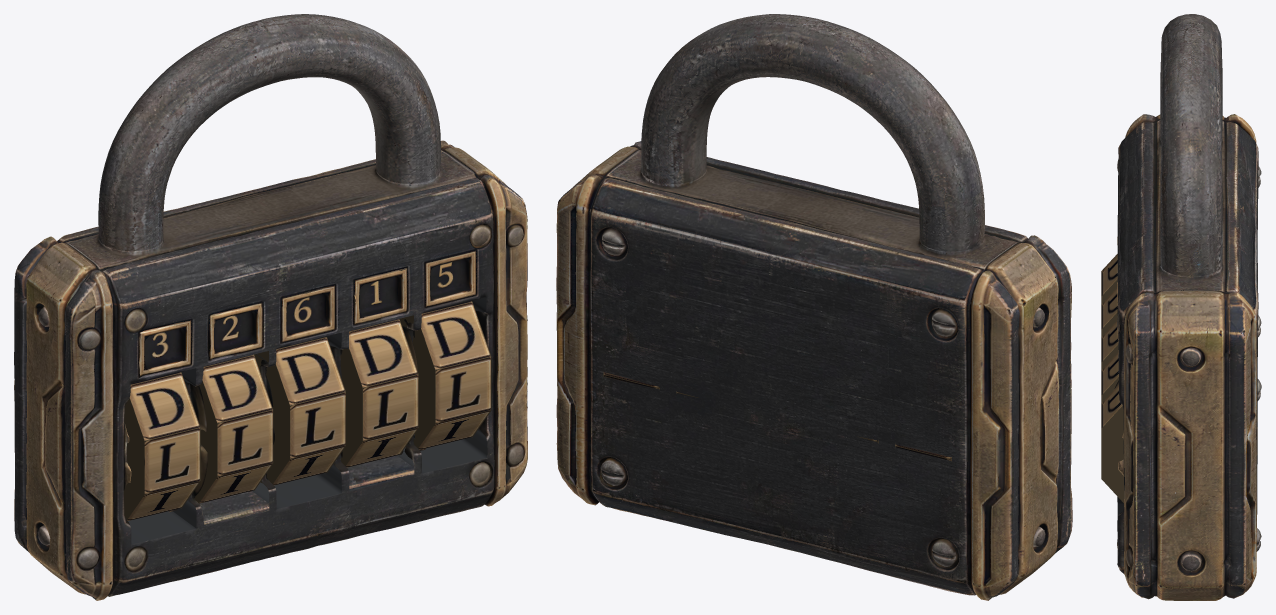
The model's file is Lock_06_Animated.fbx.
The picture shows the model from 3 angles, left to right: view 1: azimuth 30°, elevation 25°; view 2: azimuth 150°, elevation 25°; view 3: azimuth 270°, elevation 25°; orthographic projection. The views are drawn at different scales.
Visible parts, largest first — view 1: Lock_Body, Lock_Head, Dial_03, Dial_05, Dial_04, Dial_01, Dial_02; view 2: Lock_Body, Lock_Head; view 3: Lock_Body, Lock_Head, Dial_05, Dial_04, Dial_03, Dial_01, Dial_02.
Boxes of the visible parts, x1,y1,x2,y2 form: Lock_Body: [14, 140, 527, 600]; Lock_Head: [98, 14, 440, 251]; Dial_03: [254, 337, 346, 485]; Dial_05: [399, 301, 491, 449]; Dial_04: [340, 295, 418, 467]; Dial_01: [123, 372, 200, 520]; Dial_02: [194, 354, 273, 503]; Lock_Body: [556, 141, 1072, 600]; Lock_Head: [641, 14, 984, 251]; Lock_Body: [1114, 114, 1261, 600]; Lock_Head: [1160, 14, 1222, 276]; Dial_05: [1101, 384, 1257, 502]; Dial_04: [1101, 352, 1257, 421]; Dial_03: [1101, 320, 1257, 387]; Dial_01: [1101, 254, 1117, 303]; Dial_02: [1101, 287, 1117, 336].
Size of the model in its own units: 91.42 by 97.88 by 29.81.
5 materials, 2 textured.
